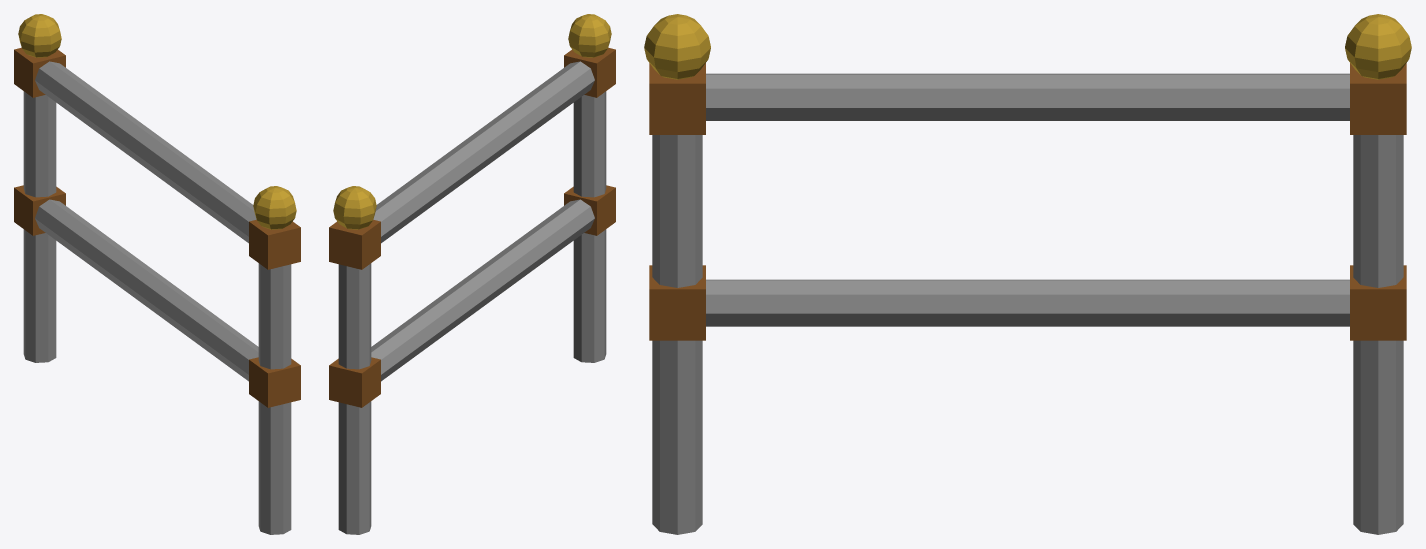
Rendered from Railing.glb.
3 renders of one model, left to right at view 1: azimuth 30°, elevation 25°; view 2: azimuth 150°, elevation 25°; view 3: azimuth 270°, elevation 25°, orthographic. The views are drawn at different scales.
Visible parts, largest first — view 1: Sphere.001; view 2: Sphere.001; view 3: Sphere.001.
Boxes of the visible parts, left/top/right/bottom form: Sphere.001: left=14, top=14, right=300, bottom=534; Sphere.001: left=329, top=14, right=615, bottom=534; Sphere.001: left=644, top=14, right=1411, bottom=534.
Size of the model in its own units: 0.4 by 3.34 by 4.58.
